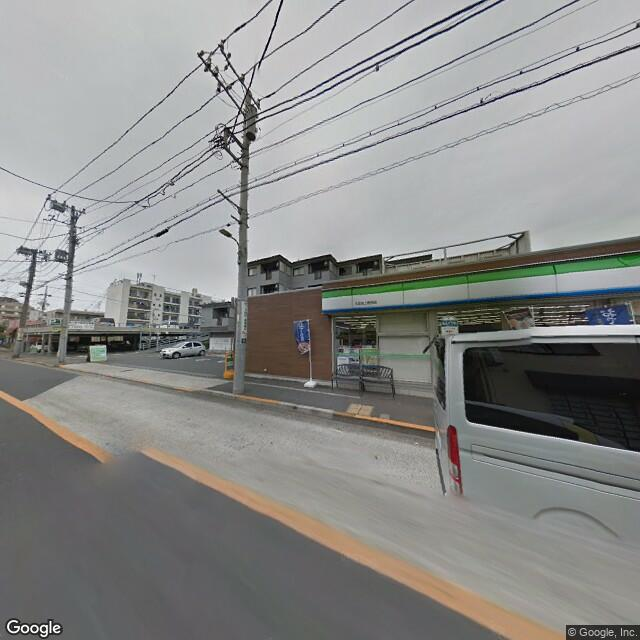family_mart: (320, 248, 637, 316)
